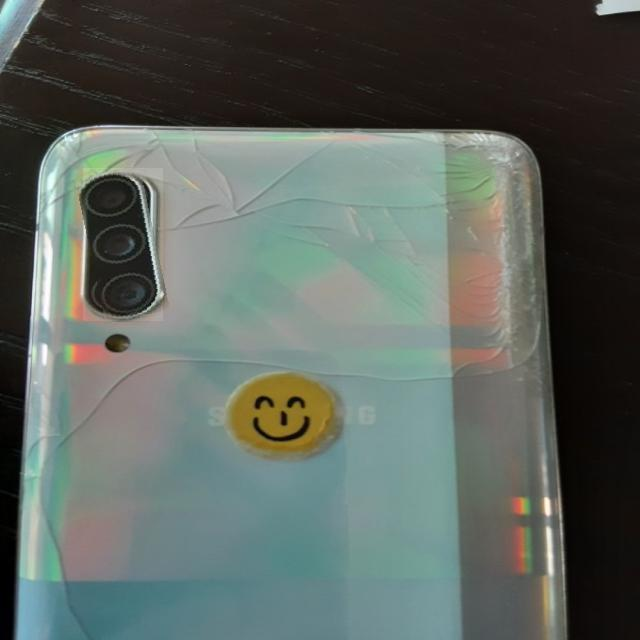Mobile: (26, 107, 570, 640)
